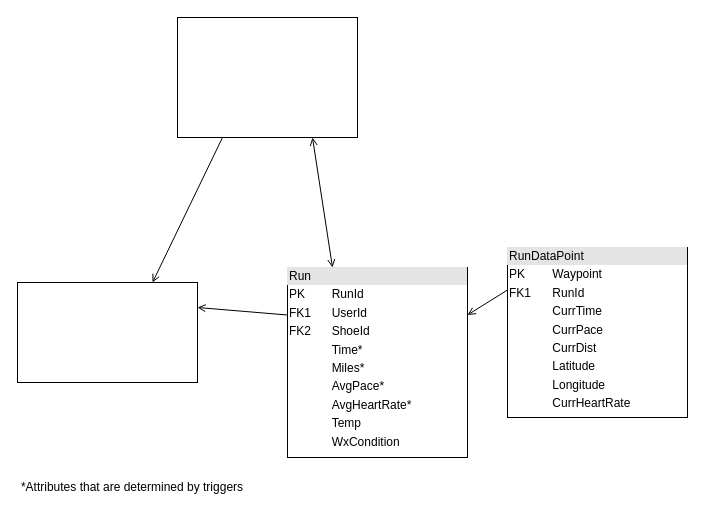
The diagram is 705 pixels wide and 515 high, and some of its shapes have lost their labels. The box of each missing label's shape, as (x1, y1, x2, y2) in pixels:
Shoes PK ShoeId FK1 UserId Brand Style Mileage*: (176, 16, 358, 138)
User PK UserId Name NumOfRuns* LifetimeMiles*: (16, 282, 198, 382)
